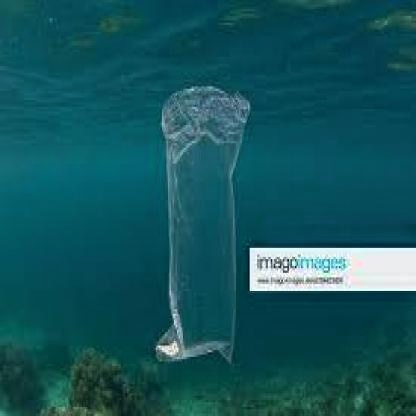pbag: (154, 84, 251, 368)
